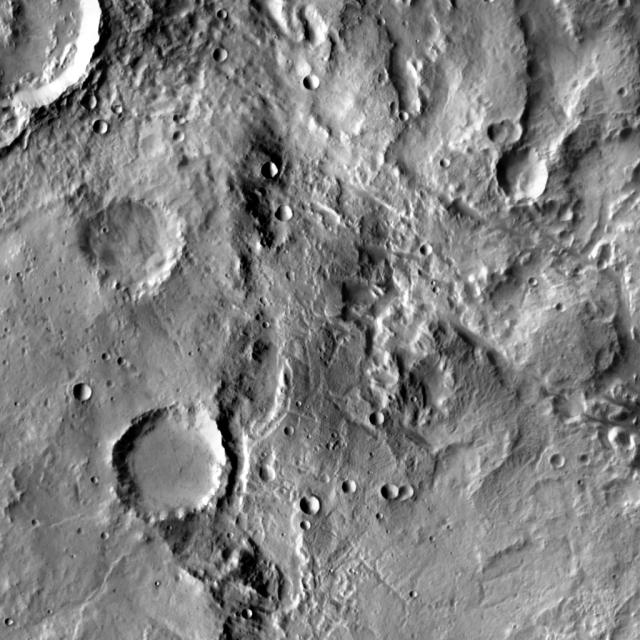crater: (114, 404, 232, 525), (0, 2, 106, 126), (92, 198, 186, 292), (496, 146, 550, 202), (552, 390, 587, 420), (488, 120, 522, 146), (300, 496, 320, 515), (74, 383, 92, 401), (259, 464, 276, 482), (275, 205, 293, 222), (381, 483, 399, 499), (261, 162, 278, 178), (303, 74, 319, 90), (81, 94, 98, 109), (558, 206, 573, 222), (399, 484, 414, 500), (369, 411, 385, 426), (560, 230, 574, 246), (550, 454, 566, 468), (213, 48, 228, 62), (93, 120, 108, 134), (342, 479, 356, 494), (420, 243, 432, 256), (396, 108, 408, 119), (596, 259, 608, 270), (174, 114, 185, 125), (378, 72, 388, 84), (580, 454, 590, 466), (173, 132, 185, 142), (389, 102, 399, 113), (300, 520, 311, 530), (206, 254, 216, 264), (618, 87, 628, 97), (112, 105, 122, 115), (242, 609, 252, 619), (556, 303, 566, 313), (218, 10, 228, 20), (320, 474, 330, 484), (399, 111, 409, 121), (284, 426, 294, 436), (440, 158, 450, 168), (618, 0, 630, 8), (446, 256, 455, 266), (478, 95, 488, 104), (32, 200, 42, 209), (286, 271, 295, 280), (100, 532, 110, 540), (528, 278, 538, 286), (106, 380, 115, 388), (254, 189, 262, 197), (512, 45, 520, 53), (450, 599, 458, 607), (335, 439, 343, 447), (574, 267, 582, 275), (4, 274, 12, 282), (32, 519, 40, 527), (410, 590, 418, 598), (5, 618, 13, 626), (118, 358, 126, 366), (378, 18, 386, 26), (102, 352, 110, 360), (44, 398, 50, 408), (122, 295, 130, 302), (326, 442, 333, 450), (58, 284, 65, 292), (185, 252, 193, 259), (91, 476, 98, 484), (262, 321, 270, 328), (376, 512, 383, 520), (432, 286, 440, 293), (260, 297, 267, 304), (388, 394, 395, 401), (66, 396, 72, 403), (85, 328, 92, 334), (446, 237, 452, 244), (486, 101, 492, 108), (428, 604, 435, 610), (255, 314, 262, 320), (227, 532, 234, 538), (455, 571, 462, 577), (318, 347, 326, 352), (208, 317, 214, 323), (322, 56, 328, 62), (296, 416, 302, 422), (604, 38, 610, 44), (432, 282, 438, 288), (614, 618, 620, 624), (280, 488, 286, 494), (116, 615, 122, 621), (22, 298, 28, 304), (316, 244, 322, 250), (406, 123, 412, 129), (314, 446, 320, 452), (246, 232, 252, 238), (22, 348, 28, 354), (296, 460, 302, 466), (94, 442, 100, 448), (78, 528, 84, 534), (411, 633, 417, 639), (26, 267, 32, 273), (14, 401, 20, 407), (22, 335, 28, 341), (226, 226, 232, 232), (102, 228, 109, 233), (76, 338, 82, 343), (261, 240, 266, 246), (302, 309, 307, 315), (86, 348, 92, 353), (343, 442, 348, 448), (53, 271, 58, 277), (582, 473, 588, 478), (132, 419, 138, 424), (551, 97, 557, 102), (230, 304, 236, 309), (167, 525, 172, 531), (286, 59, 292, 64), (226, 75, 232, 80), (261, 452, 267, 457), (260, 408, 266, 413), (349, 568, 354, 574), (512, 624, 518, 629), (331, 433, 337, 438), (16, 272, 22, 277), (3, 360, 8, 366), (402, 21, 408, 26), (39, 298, 44, 304), (411, 397, 417, 402), (429, 536, 435, 541), (296, 401, 302, 406), (0, 206, 4, 213), (43, 279, 48, 284), (269, 286, 274, 291), (319, 442, 324, 447), (422, 498, 427, 503), (155, 581, 160, 586), (197, 347, 202, 352), (202, 273, 207, 278), (578, 480, 583, 485), (225, 273, 230, 278), (613, 574, 618, 579), (228, 24, 233, 29), (93, 337, 98, 342), (48, 296, 53, 301), (188, 351, 193, 356), (447, 525, 452, 530), (62, 241, 67, 246), (474, 249, 480, 253), (324, 360, 328, 366), (270, 280, 274, 286), (430, 281, 436, 285), (4, 328, 10, 332), (484, 0, 495, 2), (61, 267, 66, 271), (471, 18, 476, 22), (407, 446, 412, 450), (516, 606, 520, 611), (33, 257, 38, 261), (573, 469, 578, 473), (304, 427, 308, 432), (497, 490, 502, 494), (374, 610, 379, 614), (367, 470, 372, 474), (386, 529, 390, 534), (282, 532, 286, 537), (307, 434, 311, 439), (72, 414, 77, 418), (305, 405, 309, 409), (259, 84, 263, 88), (292, 170, 296, 174), (65, 230, 69, 234), (61, 336, 65, 340), (565, 471, 569, 475), (311, 316, 315, 320), (562, 354, 566, 358), (72, 554, 76, 558), (94, 360, 98, 364), (416, 39, 420, 43), (434, 544, 438, 548), (92, 324, 96, 328), (354, 609, 358, 613), (329, 568, 333, 572), (122, 340, 126, 344), (370, 452, 374, 456), (82, 401, 86, 405), (284, 250, 288, 254), (111, 397, 115, 401), (48, 610, 52, 614), (450, 552, 454, 555)
